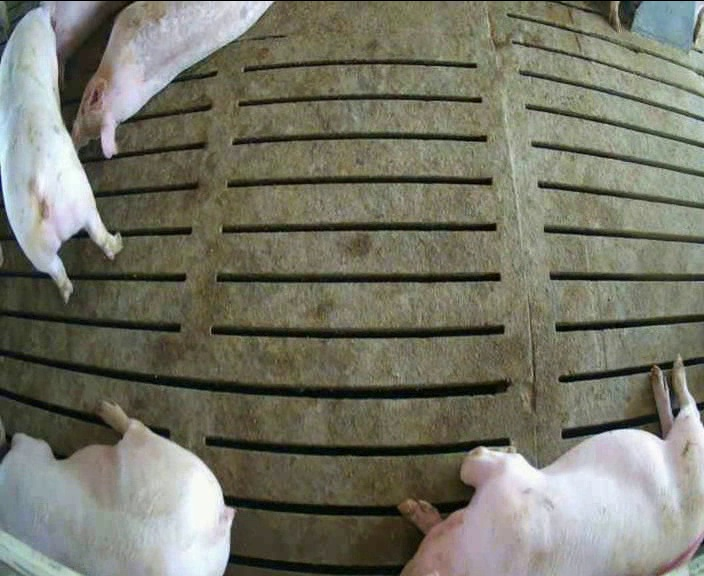pig: (401, 357, 703, 574), (0, 401, 233, 573), (72, 2, 270, 157)
